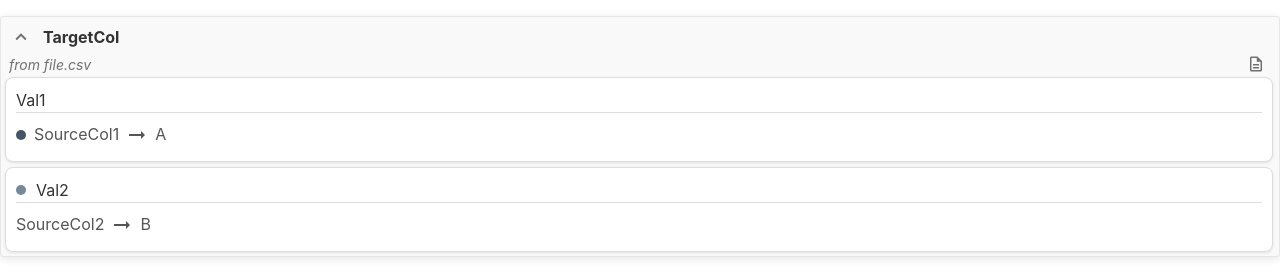
Test: <MappingHierarchy /> › shows "No terminology" and "No description" when meta is empty strings
This screenshot has width=1280, height=277.
Click the button titled "Show metadata for TargetCol".
click(1256, 64)  # box [1245, 53, 1267, 75]
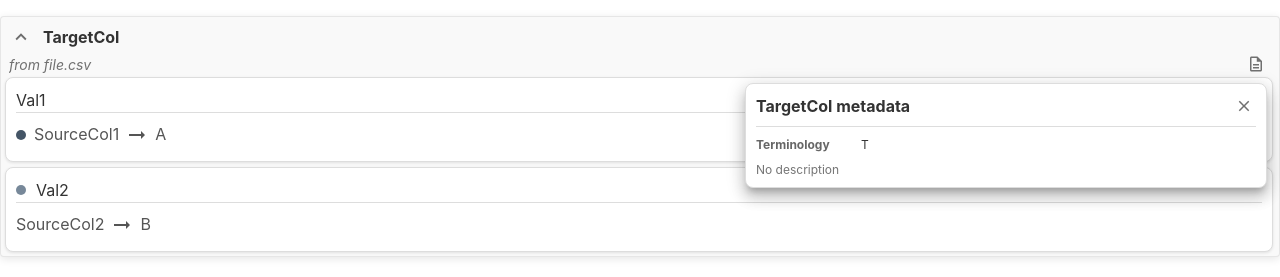
Expected: the text "No description" is shown, [756, 162, 839, 177]
